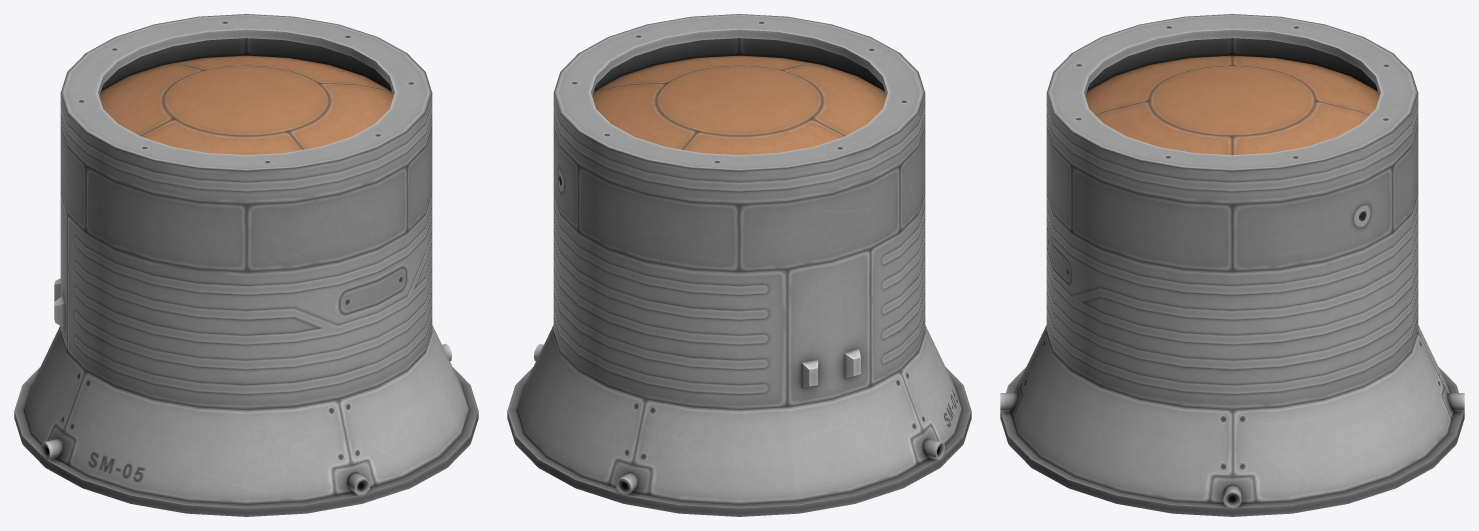
Rendered from Tantares_Engine_2.obj.
3 renders of one model, left to right at view 1: azimuth 30°, elevation 25°; view 2: azimuth 150°, elevation 25°; view 3: azimuth 270°, elevation 25°, orthographic.
Parts seen in each view (by area): view 1: Tantares_Engine_2; view 2: Tantares_Engine_2; view 3: Tantares_Engine_2.
Boxes of the visible parts, box(x1,y1,x2,y2) form: Tantares_Engine_2: box(14, 14, 478, 516); Tantares_Engine_2: box(507, 14, 971, 516); Tantares_Engine_2: box(1000, 14, 1464, 516).
Bounding box in the file's own units: 1.56 × 1.21 × 1.56.
